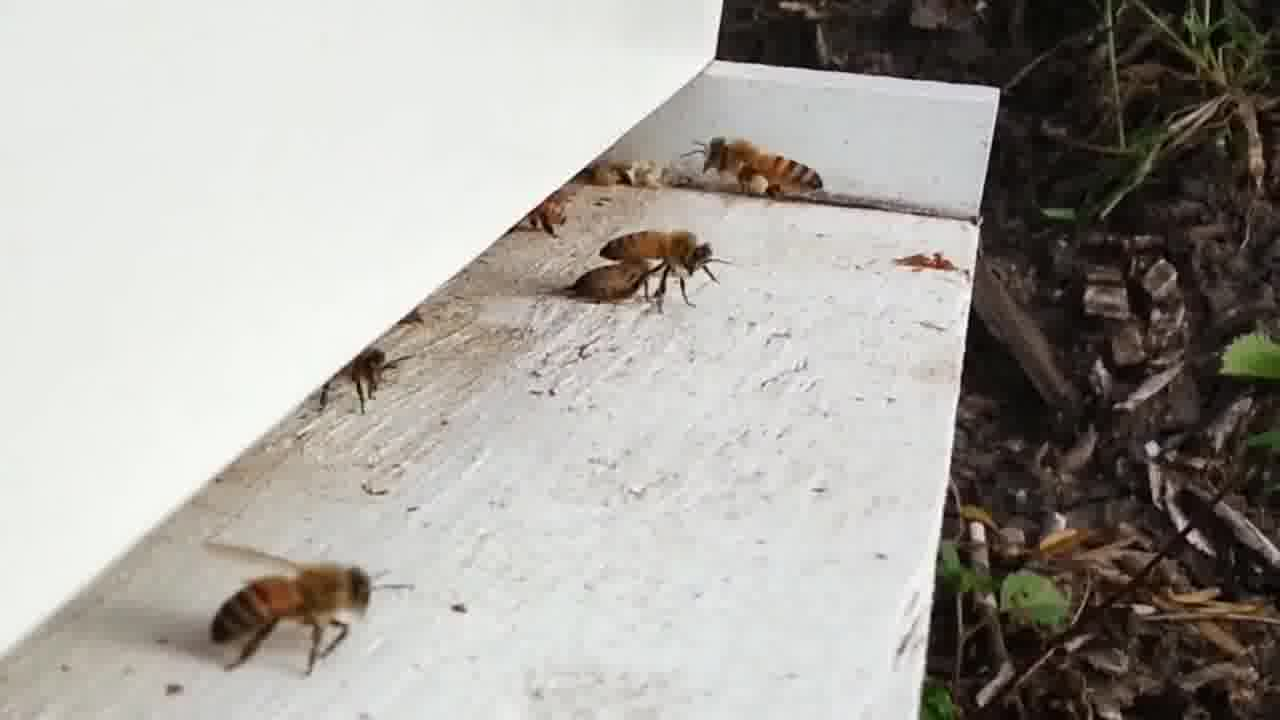pollen: (699, 134, 833, 206)
